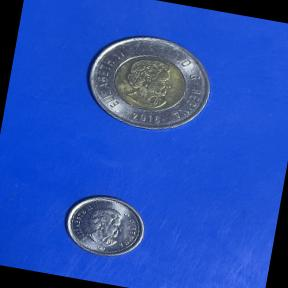Canada-10cent-B: (52, 184, 154, 267)
Canada-2Dollar-B: (70, 19, 229, 146)
